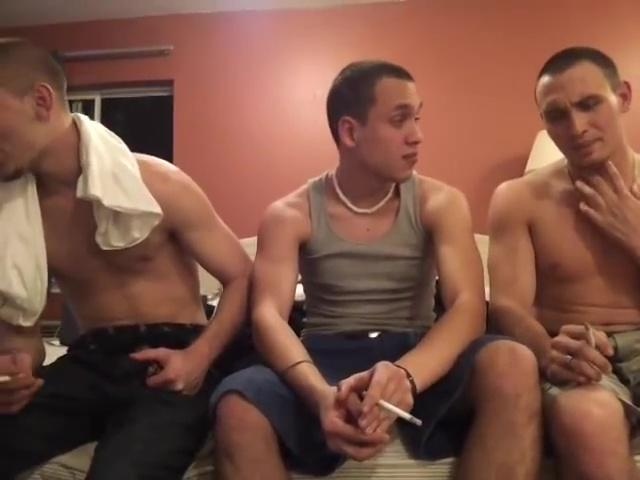cigarette: (379, 396, 424, 429), (581, 319, 598, 349)
